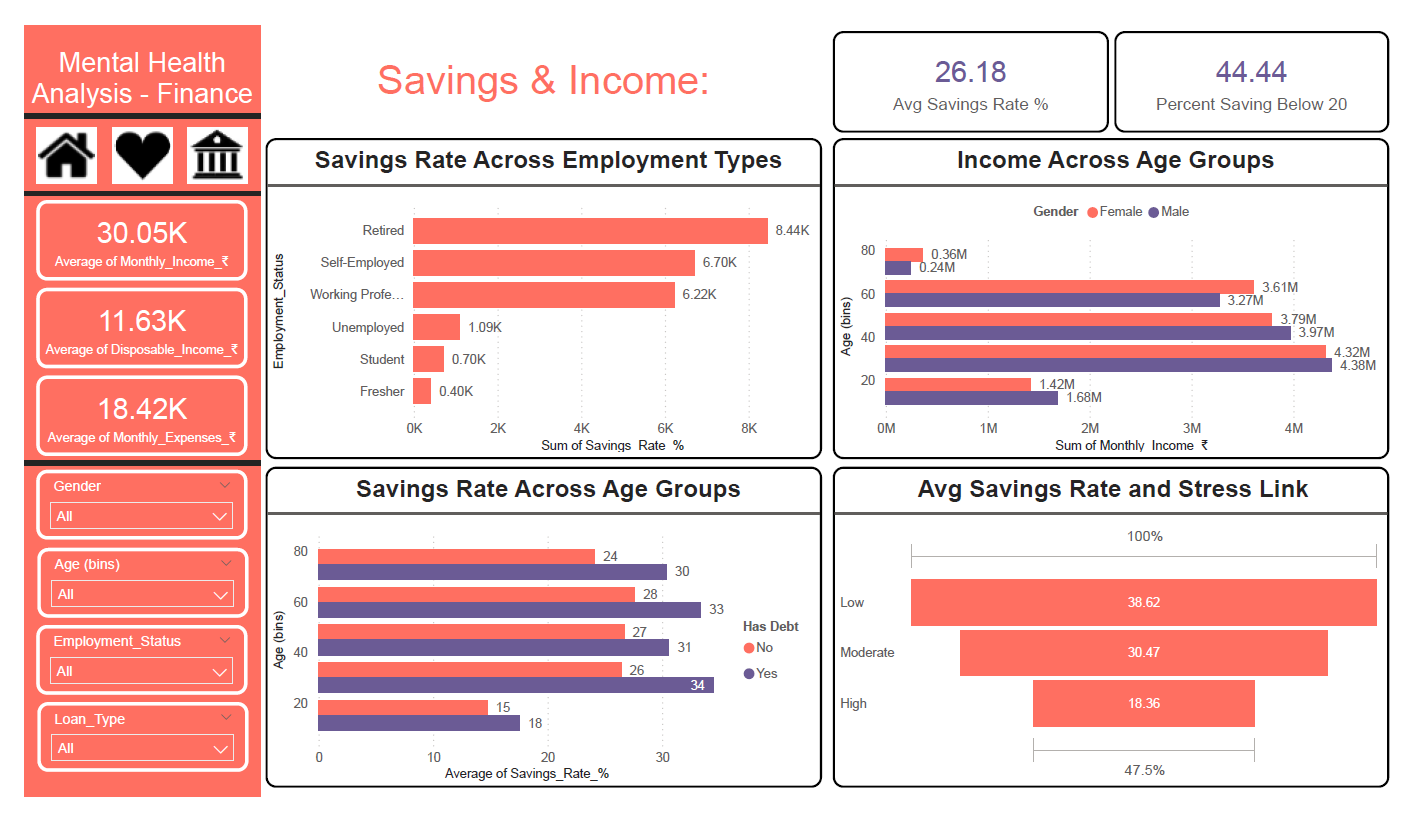

This screenshot's page, from the dashboard's own definition file:
{"tool":"powerbi","page":{"name":"Savings & Income","canvas":[1280,720],"ordinal":2},"visuals":[{"type":"shape","box":[0,0,220,720.3],"z":0},{"type":"card","fields":{"Values":["Avg(Finance_Dataset.Disposable_Income_₹)"]},"box":[11.2,245,196.5,75],"z":1000},{"type":"card","fields":{"Values":["Avg(Finance_Dataset.Monthly_Expenses_₹)"]},"box":[11.2,327,196.5,75],"z":2000},{"type":"card","fields":{"Values":["Avg(Finance_Dataset.Monthly_Income_₹)"]},"box":[11.2,163,196.5,75],"z":3000},{"type":"textbox","title":"Mental Health Analysis - Finance","box":[0,15,220.2,70],"z":4000},{"type":"slicer","fields":{"Values":["Finance_Dataset.Gender"]},"box":[11.2,415,196.5,65],"z":5000},{"type":"actionButton","box":[11.2,94.5,56,52],"z":6000},{"type":"actionButton","box":[82.1,94.5,56,52],"z":7000},{"type":"actionButton","box":[151.8,94.5,56,52],"z":8000},{"type":"slicer","fields":{"Values":["Finance_Dataset.Age (bins)"]},"box":[12.4,488,196.5,65],"z":9000},{"type":"slicer","fields":{"Values":["Finance_Dataset.Employment_Status"]},"box":[11.2,560,196.5,65],"z":10000},{"type":"slicer","fields":{"Values":["Finance_Dataset.Loan_Type"]},"box":[12.4,632,196.5,65],"z":11000},{"type":"shape","box":[0,401.8,220.2,13],"z":12000},{"type":"shape","box":[0,150.5,220.2,12.4],"z":13000},{"type":"shape","box":[0,78.4,220.2,12.4],"z":14000},{"type":"clusteredBarChart","title":"Savings Rate Across Employment Types","fields":{"Category":["Finance_Dataset.Employment_Status"],"Y":["Sum(Finance_Dataset.Savings_Rate_%)"]},"box":[225,105,520,300],"z":15000},{"type":"clusteredBarChart","title":"Income Across Age Groups","fields":{"Category":["Finance_Dataset.Age (bins)"],"Y":["Sum(Finance_Dataset.Monthly_Income_₹)"],"Series":["Finance_Dataset.Gender"]},"box":[755,105,520,300],"z":16000},{"type":"funnel","title":"Avg Savings Rate and Stress Link","fields":{"Y":["Avg(Finance_Dataset.Savings_Rate_%)"],"Category":["Finance_Dataset.Stress_Level"]},"box":[755.1,412,520,300],"z":17000},{"type":"clusteredBarChart","title":"Savings Rate Across Age Groups","fields":{"Category":["Finance_Dataset.Age (bins)"],"Y":["Avg(Finance_Dataset.Savings_Rate_%)"],"Series":["Finance_Dataset.Has_Debt"]},"box":[225.2,412,520,300],"z":18000},{"type":"textbox","title":"Main Dashboard Overview","box":[225,25,520,60],"z":19000},{"type":"card","fields":{"Values":["Finance_Dataset.Avg Savings Rate %"]},"box":[755,5,258,95],"z":20000},{"type":"card","fields":{"Values":["Finance_Dataset.Percent Saving Below 20"]},"box":[1017.5,5,257.5,95],"z":21000}]}

Visuals, with their boxes in screenshot pixels (x1, y1, x2, y2), scaled from the page's 1280x720 canvas onto the 1418x818 screenshot:
shape: bbox(0, 0, 244, 817)
card - Avg(Finance_Dataset.Disposable_Income_₹): bbox(12, 278, 230, 364)
card - Avg(Finance_Dataset.Monthly_Expenses_₹): bbox(12, 372, 230, 457)
card - Avg(Finance_Dataset.Monthly_Income_₹): bbox(12, 185, 230, 270)
"Mental Health Analysis - Finance" textbox: bbox(0, 17, 244, 97)
slicer - Finance_Dataset.Gender: bbox(12, 471, 230, 545)
actionButton: bbox(12, 107, 74, 166)
actionButton: bbox(91, 107, 153, 166)
actionButton: bbox(168, 107, 230, 166)
slicer - Finance_Dataset.Age (bins): bbox(14, 554, 231, 628)
slicer - Finance_Dataset.Employment_Status: bbox(12, 636, 230, 710)
slicer - Finance_Dataset.Loan_Type: bbox(14, 718, 231, 792)
shape: bbox(0, 456, 244, 471)
shape: bbox(0, 171, 244, 185)
shape: bbox(0, 89, 244, 103)
"Savings Rate Across Employment Types" clusteredBarChart: bbox(249, 119, 825, 460)
"Income Across Age Groups" clusteredBarChart: bbox(836, 119, 1412, 460)
"Avg Savings Rate and Stress Link" funnel: bbox(837, 468, 1413, 809)
"Savings Rate Across Age Groups" clusteredBarChart: bbox(249, 468, 826, 809)
"Main Dashboard Overview" textbox: bbox(249, 28, 825, 97)
card - Finance_Dataset.Avg Savings Rate %: bbox(836, 6, 1122, 114)
card - Finance_Dataset.Percent Saving Below 20: bbox(1127, 6, 1412, 114)
